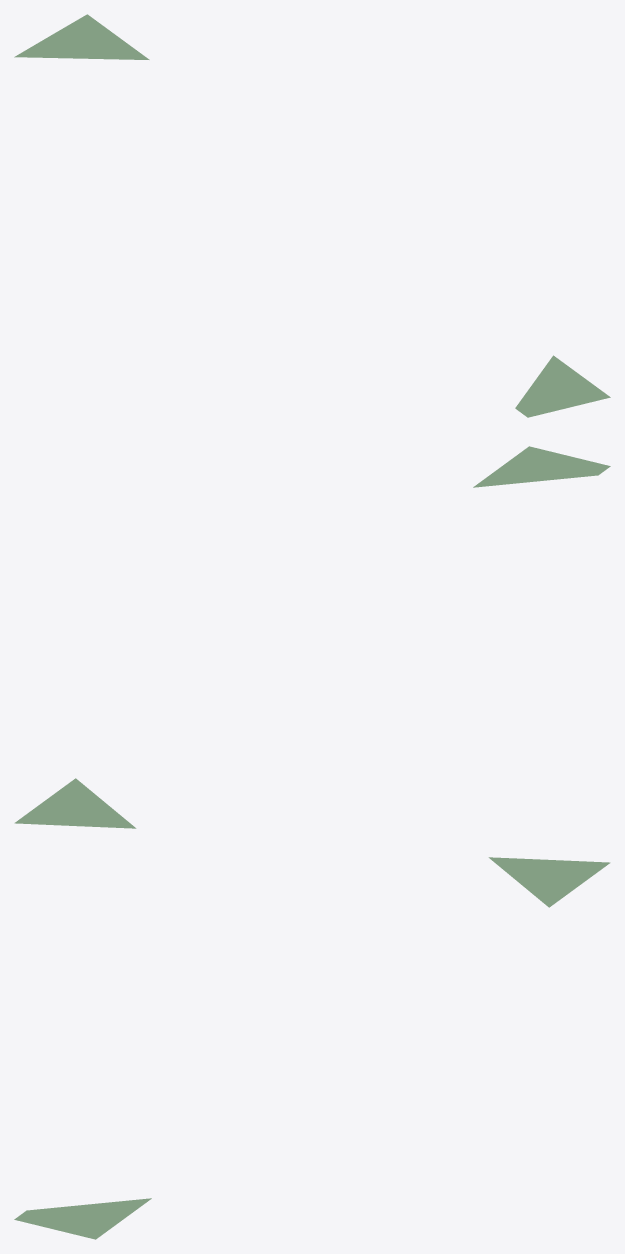
Rendered from WELDING_WORKSHOP.glb.
3 views of the same model, one above another, from view 1: azimuth 30°, elevation 25°; view 2: azimuth 150°, elevation 25°; view 3: azimuth 330°, elevation 25° (orthographic).
Parts seen in each view (by area): view 1: PL_HG59BracketxAPTP_001001-10.5_NVA_1993, PL_HG59BracketxAPTP_002001-10_NVA_1993; view 2: PL_HG59BracketxAPTP_001001-10.5_NVA_1993, PL_HG59BracketxAPTP_002001-10_NVA_1993; view 3: PL_HG59BracketxAPTP_001001-10.5_NVA_1993, PL_HG59BracketxAPTP_002001-10_NVA_1993.
Boxes of the visible parts, <box> form: PL_HG59BracketxAPTP_001001-10.5_NVA_1993: <box>14,14,149,59</box>; PL_HG59BracketxAPTP_002001-10_NVA_1993: <box>515,355,610,417</box>; PL_HG59BracketxAPTP_001001-10.5_NVA_1993: <box>14,778,136,828</box>; PL_HG59BracketxAPTP_002001-10_NVA_1993: <box>473,446,610,487</box>; PL_HG59BracketxAPTP_001001-10.5_NVA_1993: <box>488,857,610,907</box>; PL_HG59BracketxAPTP_002001-10_NVA_1993: <box>14,1198,151,1239</box>.
Size of the model in its own units: 0.8939 by 0 by 8.18.
